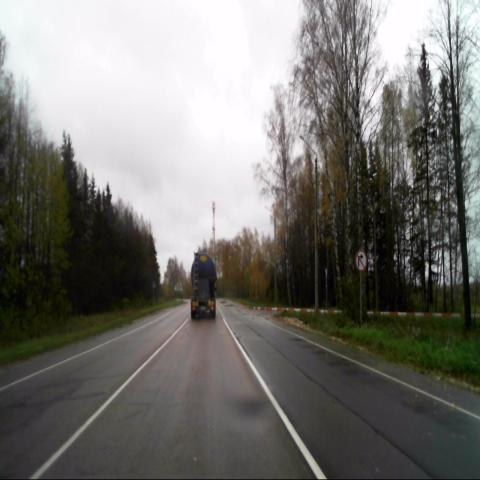3_18: (355, 248, 368, 272)
